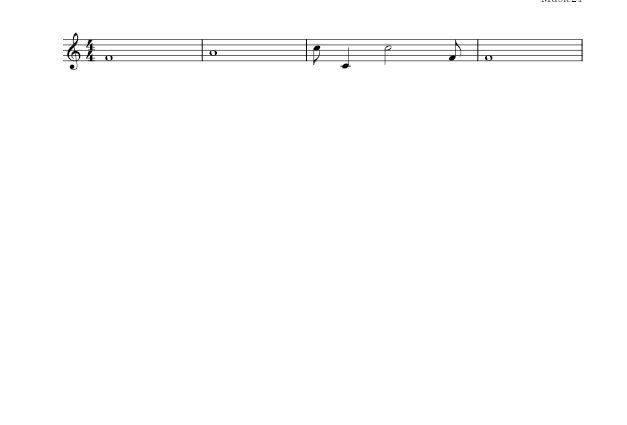Treble Clef: (62, 27, 84, 74)
